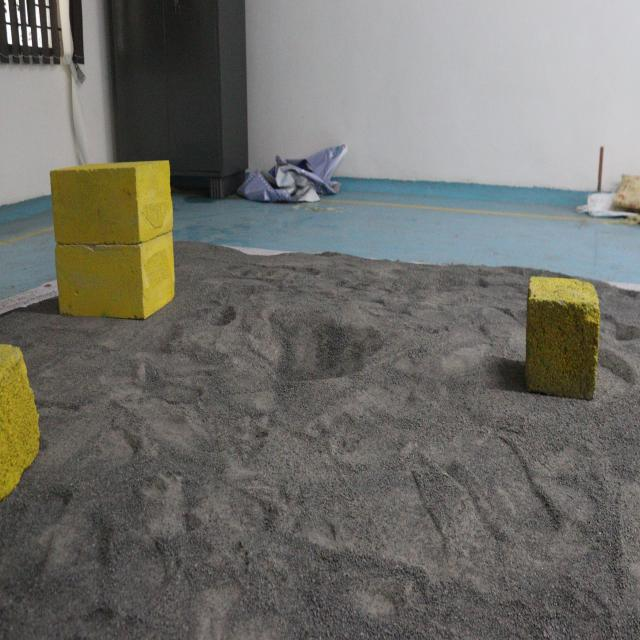box: (41, 155, 179, 321), (523, 276, 598, 406)
crater: (242, 308, 390, 398)
